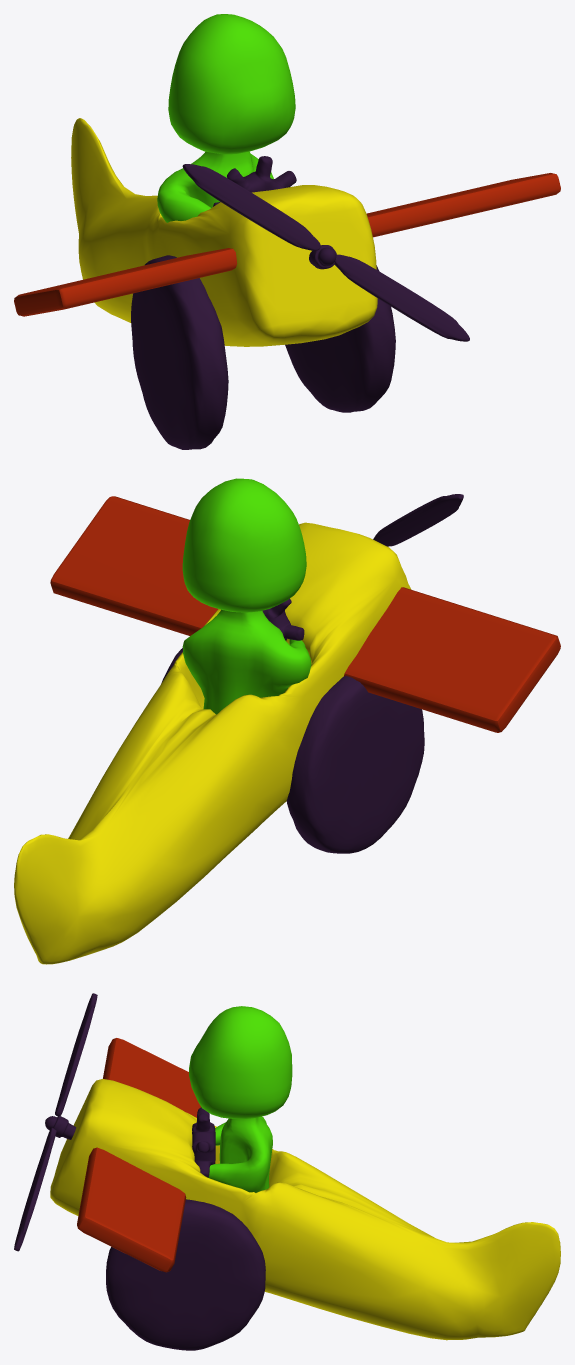
File: ToySoldierPlane.fbx
3 views of the same model, one above another, from view 1: azimuth 30°, elevation 25°; view 2: azimuth 150°, elevation 25°; view 3: azimuth 270°, elevation 25° (orthographic). The views are drawn at different scales.
Parts seen in each view (by area): view 1: polySurface33, polySurface34, polySurface32, pCube31, polySurface35, polySurface31, polySurface36; view 2: polySurface33, pCube31, polySurface34, polySurface32, polySurface31, polySurface36; view 3: polySurface33, polySurface35, polySurface34, pCube31, polySurface31, polySurface36.
Boxes of the visible parts, bbox=[...] form: polySurface33: bbox=[71, 118, 377, 346]; polySurface34: bbox=[157, 14, 295, 222]; polySurface32: bbox=[131, 255, 228, 449]; pCube31: bbox=[14, 173, 560, 316]; polySurface35: bbox=[285, 265, 395, 412]; polySurface31: bbox=[182, 164, 469, 341]; polySurface36: bbox=[213, 156, 296, 206]; polySurface33: bbox=[14, 522, 411, 964]; pCube31: bbox=[50, 496, 560, 732]; polySurface34: bbox=[182, 478, 311, 714]; polySurface32: bbox=[286, 676, 424, 853]; polySurface31: bbox=[373, 494, 463, 546]; polySurface36: bbox=[262, 598, 304, 640]; polySurface33: bbox=[50, 1079, 560, 1340]; polySurface35: bbox=[106, 1199, 265, 1350]; polySurface34: bbox=[189, 1006, 292, 1192]; pCube31: bbox=[77, 1038, 201, 1272]; polySurface31: bbox=[14, 993, 97, 1251]; polySurface36: bbox=[192, 1107, 215, 1177].
Size of the model in its own units: 4.56 by 3.43 by 5.4.
